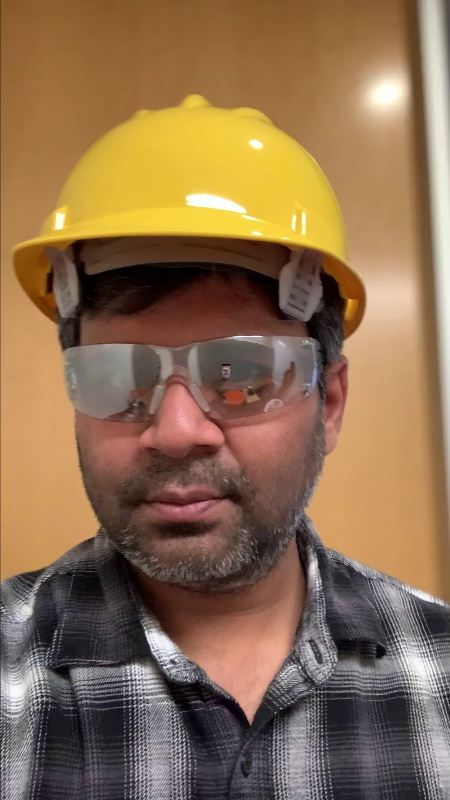glasses: (55, 335, 326, 419)
helmet: (22, 95, 343, 264)
